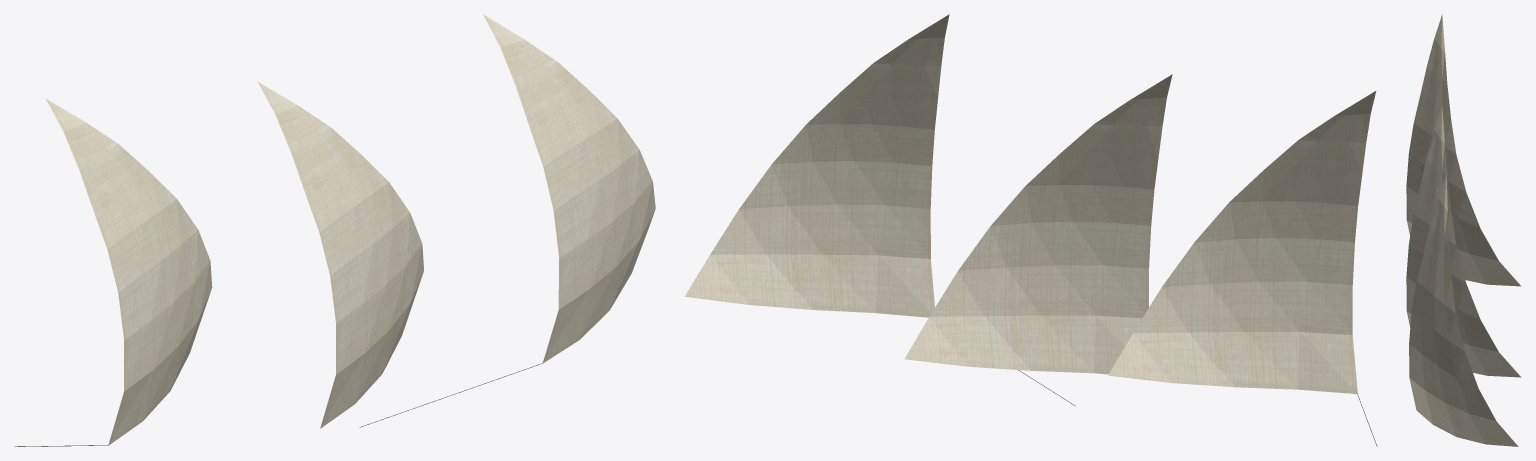
Rendered from GalleySailLD0.FBX.
The picture shows the model from 3 angles, left to right: view 1: azimuth 30°, elevation 25°; view 2: azimuth 150°, elevation 25°; view 3: azimuth 270°, elevation 25°; orthographic projection. The views are drawn at different scales.
Visible parts, largest first — view 1: GalleySailLD0; view 2: GalleySailLD0; view 3: GalleySailLD0.
Part boxes in pixels (bbox=[...]): GalleySailLD0: bbox=[45, 14, 655, 445]; GalleySailLD0: bbox=[684, 14, 1376, 393]; GalleySailLD0: bbox=[1406, 14, 1521, 446].
Size of the model in its own units: 1537 by 879 by 343.
